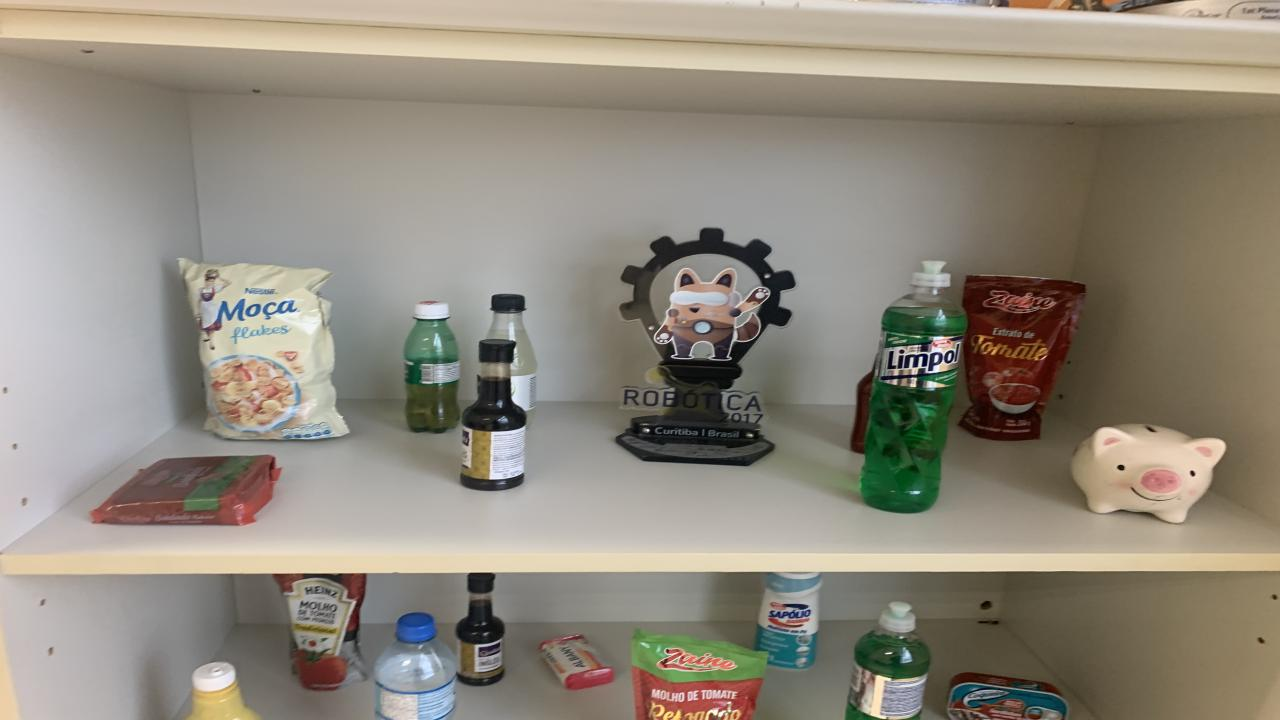Cleaner-Cleanup_Items: (755, 572, 822, 669)
Detergent-Cleanup_Items: (860, 262, 968, 512), (845, 602, 930, 720)
English_Sauce-Pantry_Items: (460, 339, 528, 491), (455, 572, 505, 686)
Flakes-Snacks: (180, 259, 348, 439)
Guarana-Drinks: (405, 302, 460, 433)
Guava-Snacks: (90, 456, 280, 525)
Ketchup-Pantry_Items: (850, 369, 875, 454)
Mustard-Pantry_Items: (185, 662, 260, 720)
Pig_Safe-Miscellaneous: (1072, 424, 1225, 523)
Soap-Cleanup_Items: (540, 634, 615, 690)
Soda-Drinks: (488, 294, 538, 422)
Tomato_Sauce-Pantry_Items: (960, 276, 1085, 441), (630, 630, 768, 720), (275, 574, 368, 690)
Trophy-Miscellaneous: (618, 227, 795, 465)
Tuna_Can-Pantry_Items: (948, 671, 1070, 720)
Water_Bottle-Drinks: (375, 613, 458, 720)
